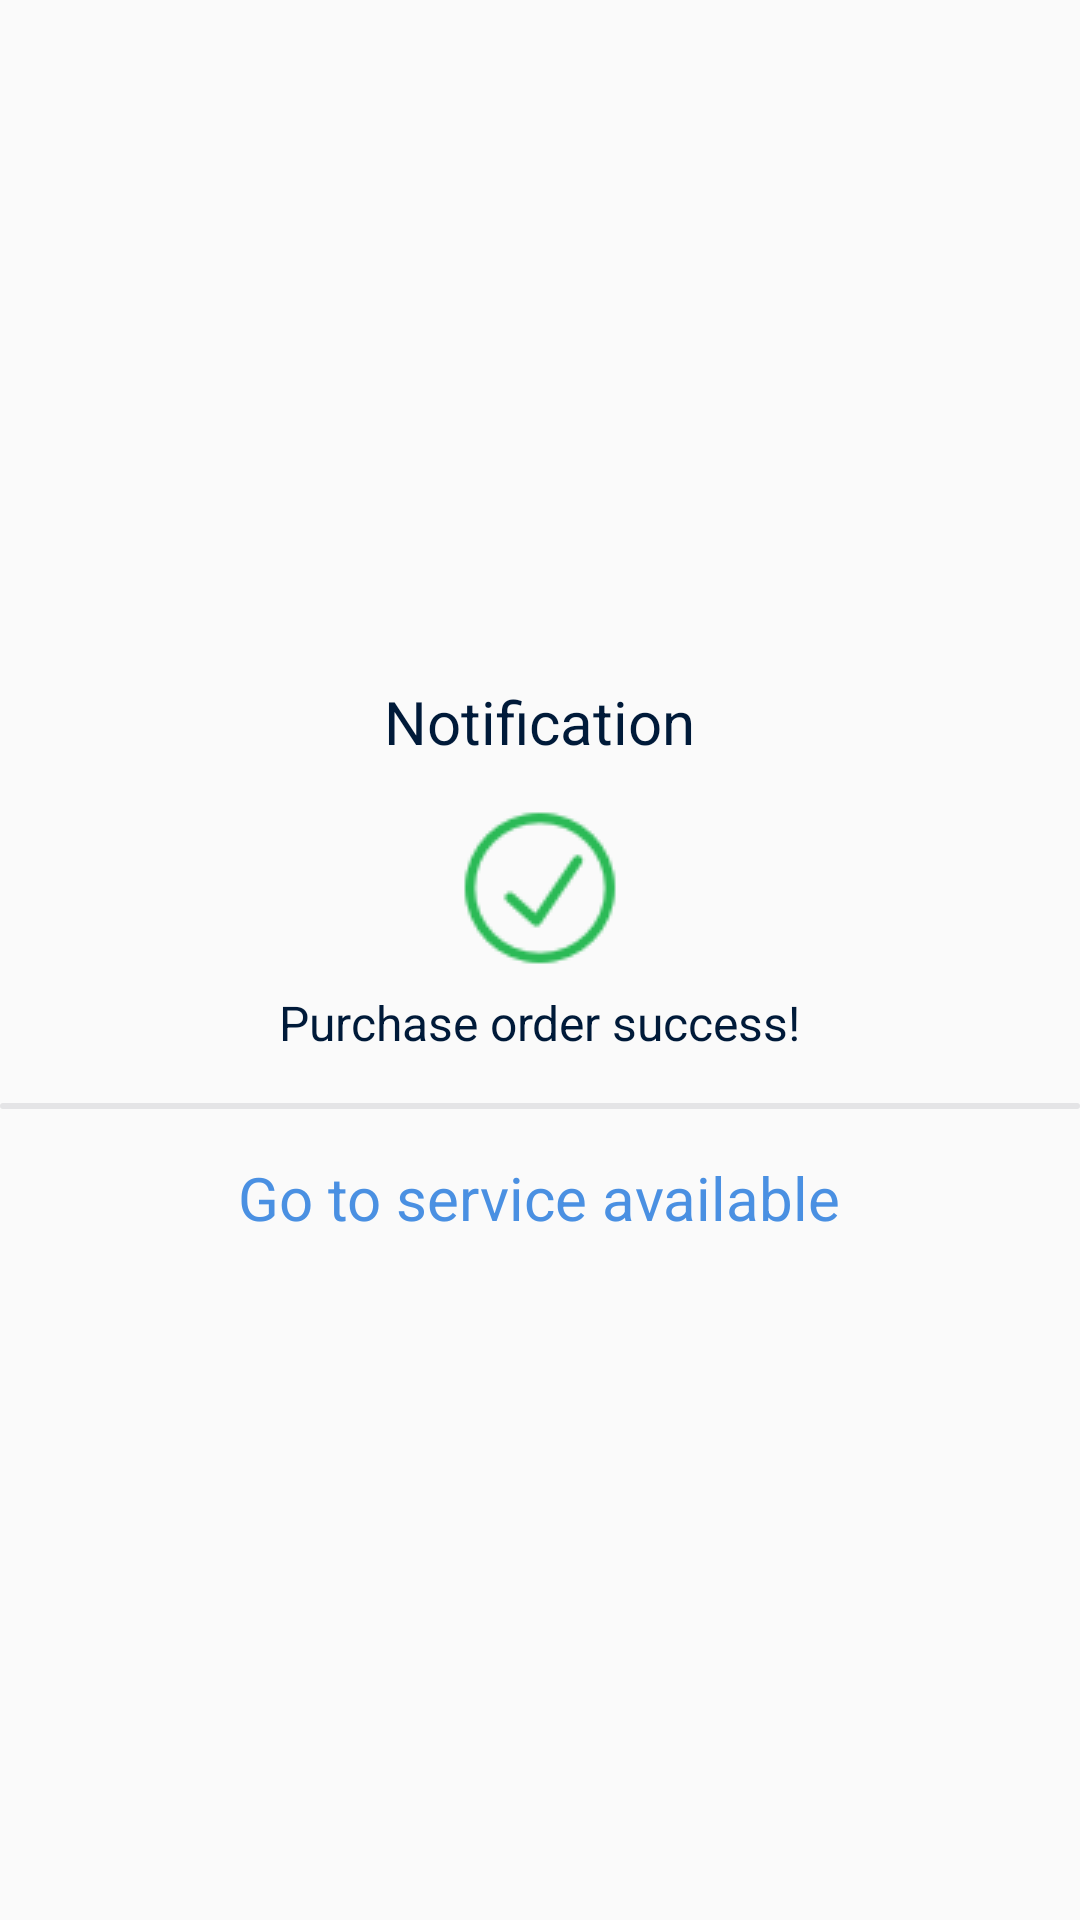

Locate icon controls on the screen. Image size 1080px x 1920px, boxes as (x1, y1, x2, y2).
tick: (464, 812, 616, 964)
